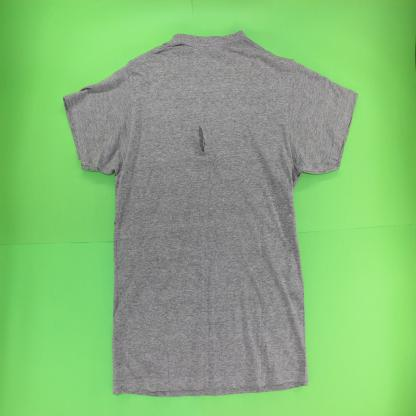hole: (196, 124, 207, 156)
